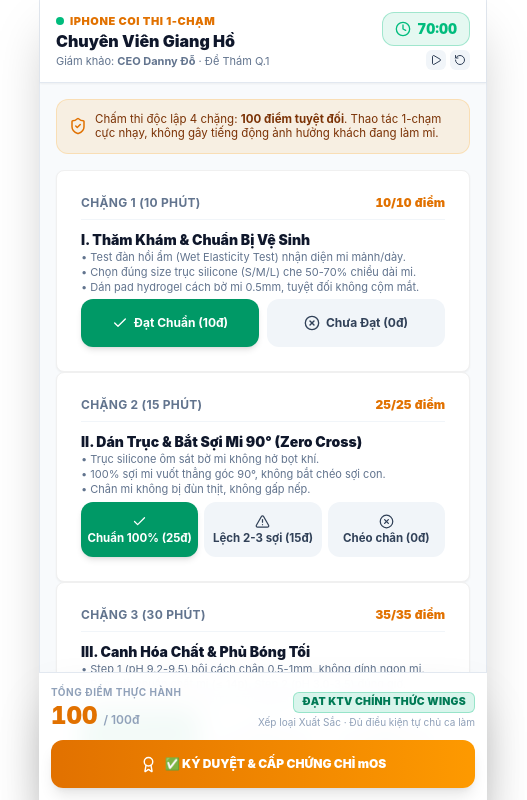
IphonePracticalExamRubric › calculates score across 4 stages with 1-tap buttons and updates bottom sticky score
The width and height of the screenshot is (527, 800).
Expected: the text "100" is shown, [51,700,97,732]
Expected: the text "ĐẠT KTV CHÍNH THỨC WINGS" is shown, [293,692,475,713]
Click the button with test id "btn-stage1-fail": (356, 323) [267,299,445,347]
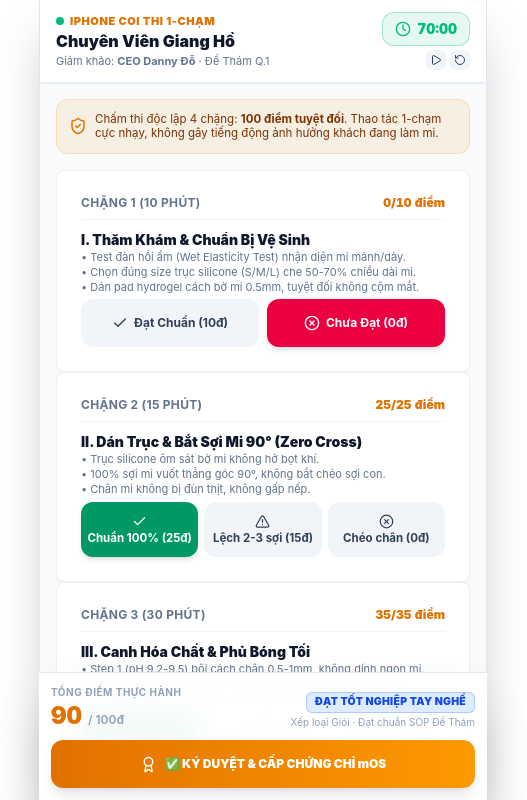
Result: the text "90" is shown at [51,700,82,732]
Result: the text "ĐẠT TỐT NGHIỆP TAY NGHỀ" is shown at [306,692,475,713]
Click the button with test id "btn-stage2-minor": (263, 529) [204,502,322,557]
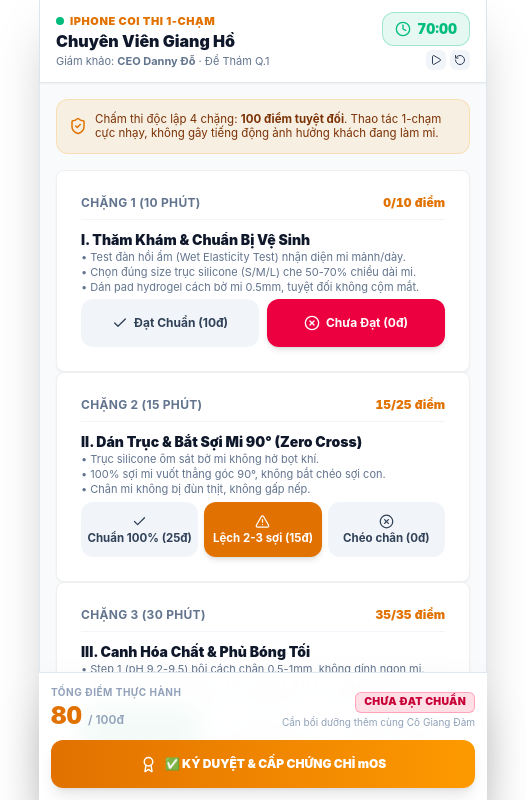
Result: the text "80" is shown at [51,700,82,732]
Result: the text "CHƯA ĐẠT CHUẨN" is shown at [355,692,475,713]
Click the button with test id "btn-stage1-pass": (170, 323) [81,299,259,347]
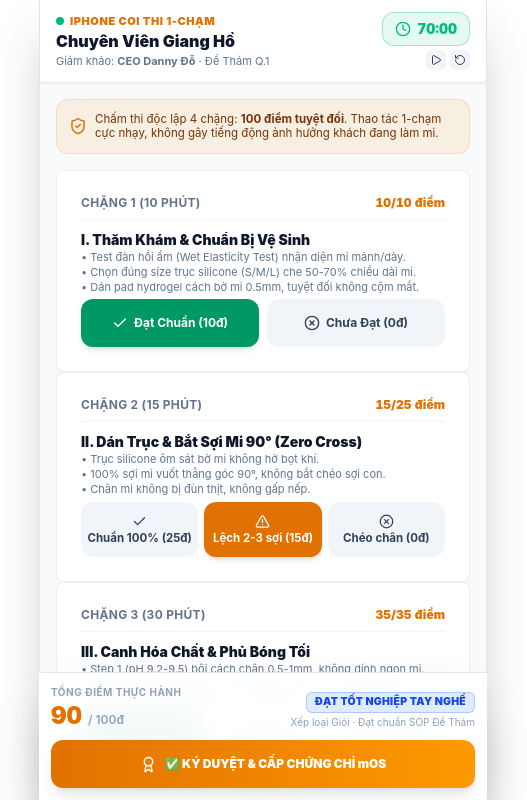
Click the button with test id "btn-stage2-perfect": (140, 529) [81,502,198,557]
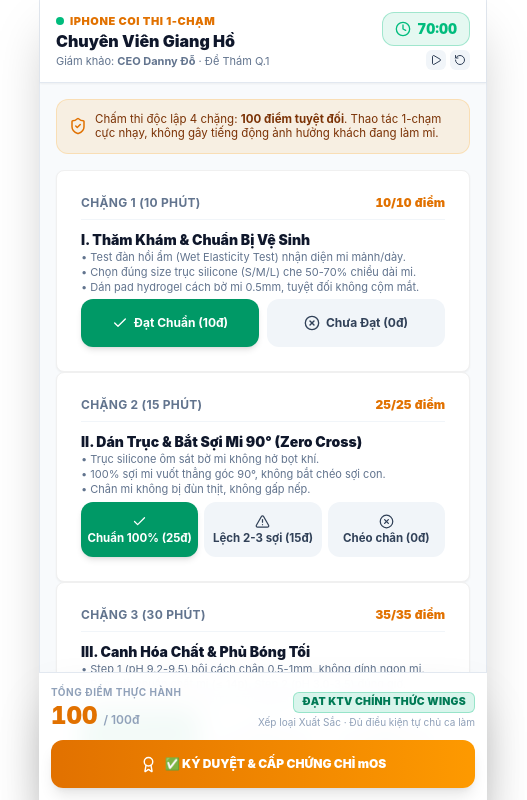
Result: the text "100" is shown at [51,700,97,732]
